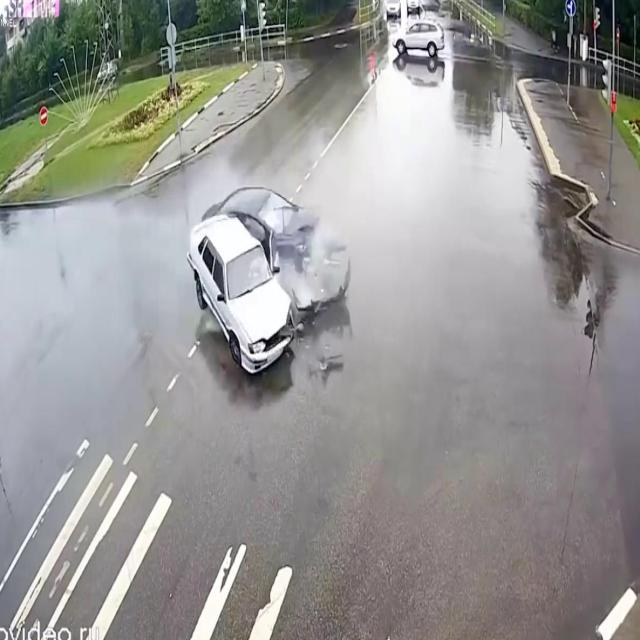accident: (181, 174, 355, 395)
